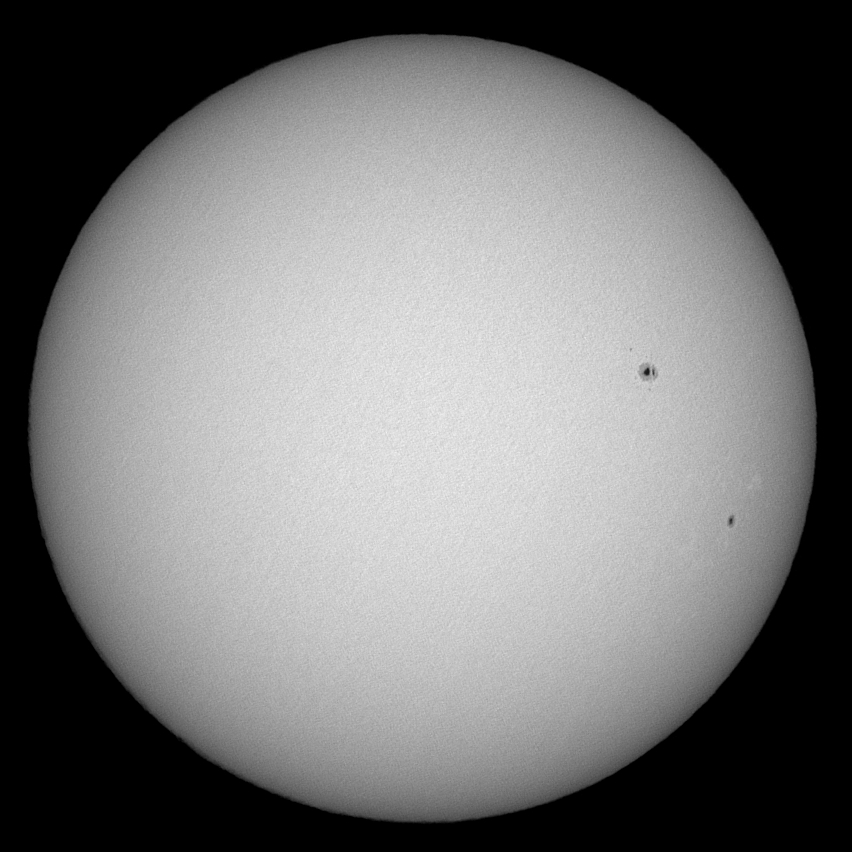sunspot: (637, 359, 660, 381), (726, 513, 739, 528)
